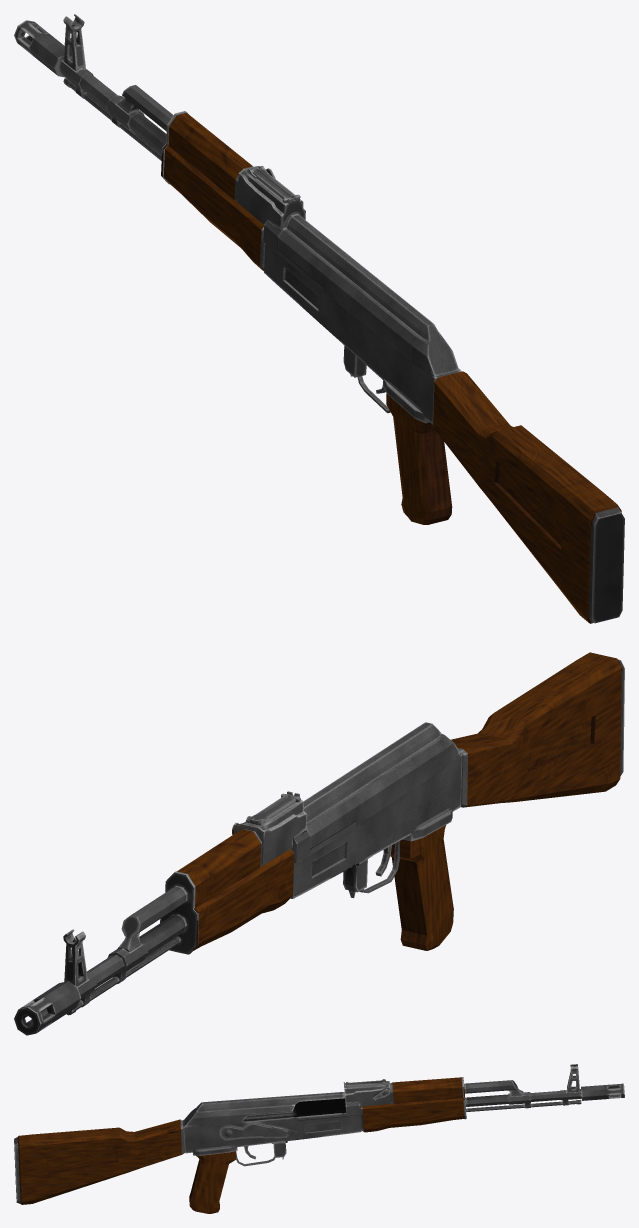
File: akRe.glb
3 renders of one model, top to bottom at view 1: azimuth 30°, elevation 25°; view 2: azimuth 150°, elevation 25°; view 3: azimuth 270°, elevation 25°, orthographic. The views are drawn at different scales.
Parts seen in each view (by area): view 1: ak; view 2: ak; view 3: ak.
Boxes of the visible parts, x1,y1,x2,y2 form: ak: [14, 14, 624, 623]; ak: [14, 652, 624, 1035]; ak: [14, 1064, 624, 1213].
Bounding box in the file's own units: 0.0343 × 0.157 × 0.6121.
1 material, 1 textured.
